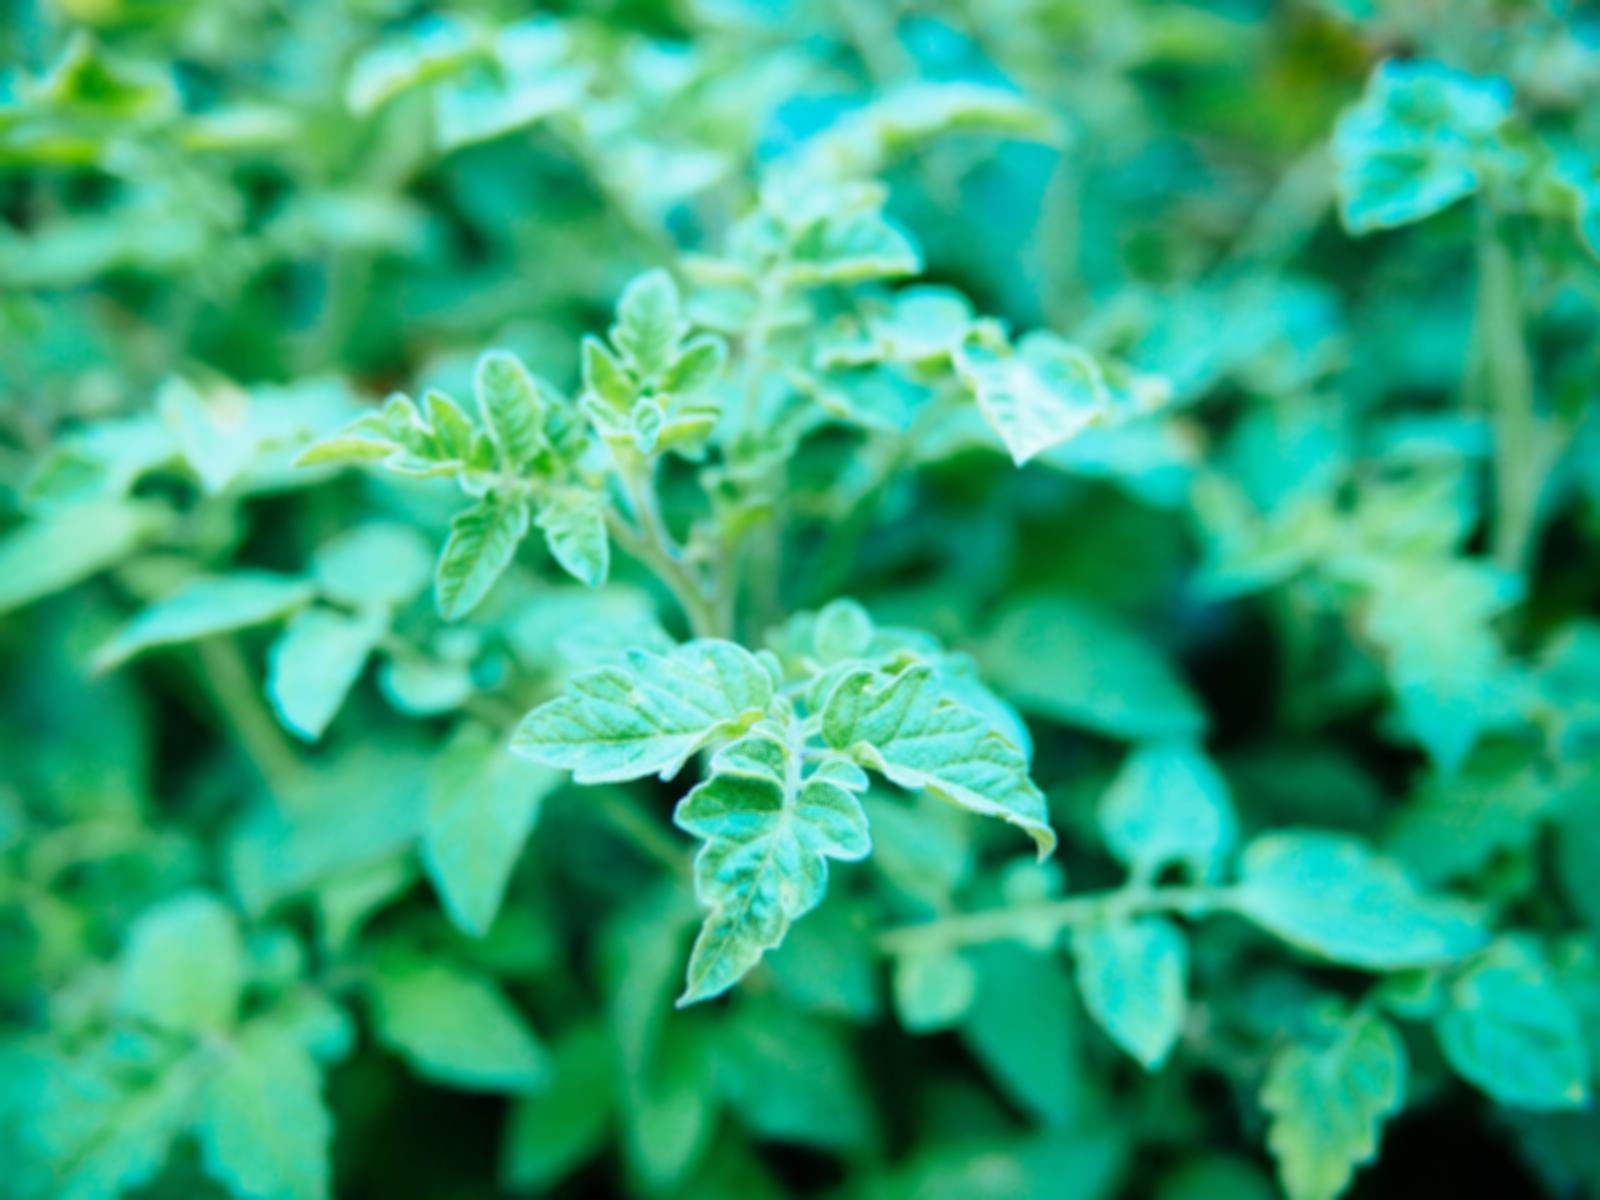Tomato leaf: (787, 626, 1078, 860), (649, 708, 847, 1037), (515, 637, 789, 803)
